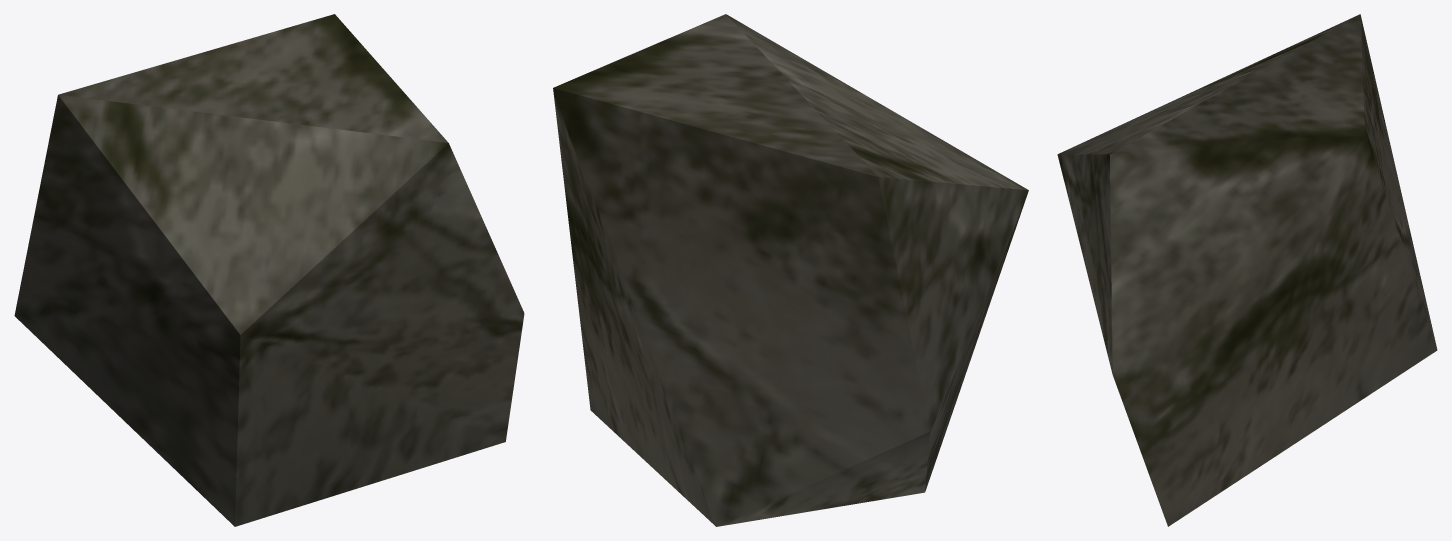
Rendered from AEP_R_04_Stone_02.fbx.
3 renders of one model, left to right at view 1: azimuth 30°, elevation 25°; view 2: azimuth 150°, elevation 25°; view 3: azimuth 270°, elevation 25°, orthographic. The views are drawn at different scales.
Visible parts, largest first — view 1: AEP_R_04_Stone_02; view 2: AEP_R_04_Stone_02; view 3: AEP_R_04_Stone_02.
Part boxes in pixels (x1,y1,x2,y2): AEP_R_04_Stone_02: [14, 14, 524, 526]; AEP_R_04_Stone_02: [553, 14, 1028, 526]; AEP_R_04_Stone_02: [1057, 14, 1437, 526].
Size of the model in its own units: 0.9963 by 0.9216 by 0.8621.
